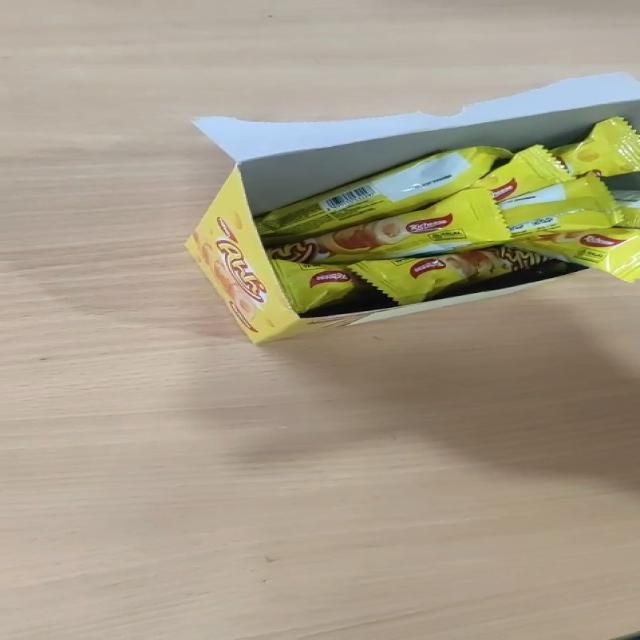Ahh: (258, 147, 510, 243), (268, 188, 509, 264), (351, 246, 549, 305), (499, 175, 616, 239), (511, 227, 639, 282), (473, 145, 570, 203), (552, 117, 639, 176), (272, 261, 357, 313), (613, 190, 639, 228)
